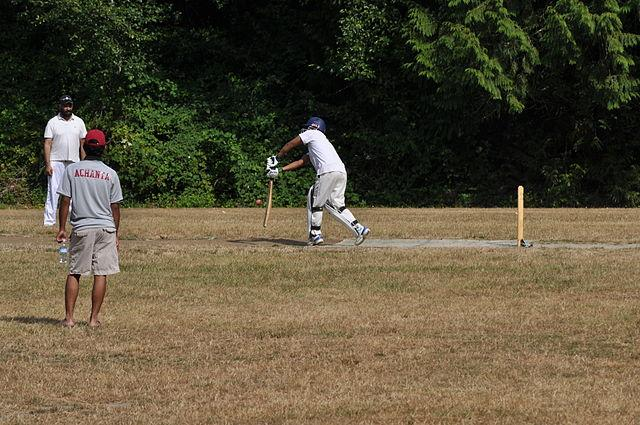batsman: (260, 115, 373, 249)
